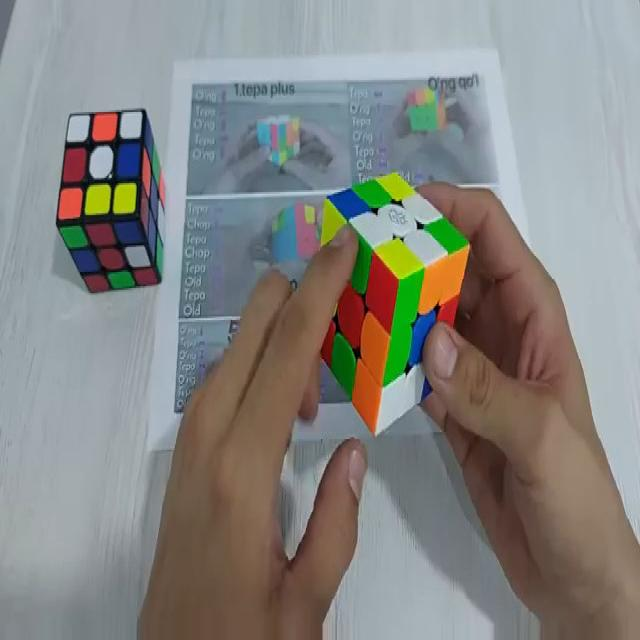Rub: (313, 170, 469, 433), (59, 108, 168, 290)
